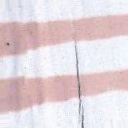crackTip: (71, 39, 91, 128)
